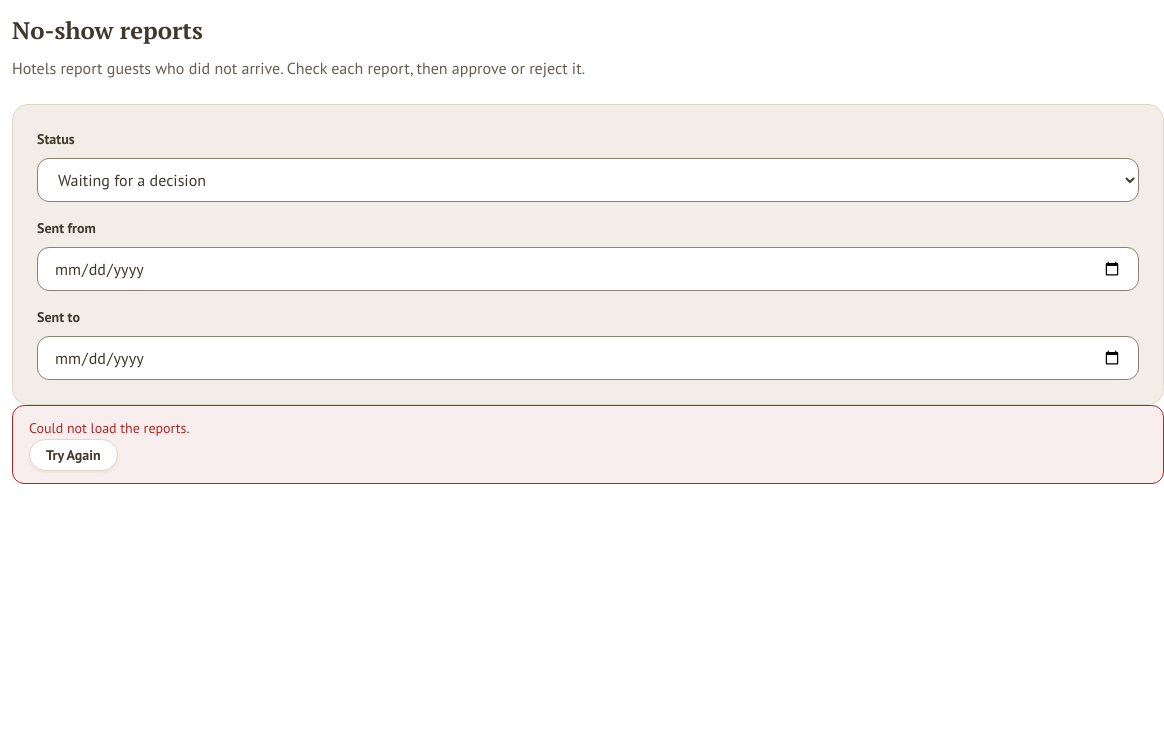
Test: AdminNoShowReports › queue › shows an error with a retry
The width and height of the screenshot is (1164, 732).
Expected: the message shows "Could not load the reports.", x1=29 y1=419 x2=189 y2=437
Click the button "Try Again".
click(73, 455)  # box x1=29 y1=439 x2=118 y2=471
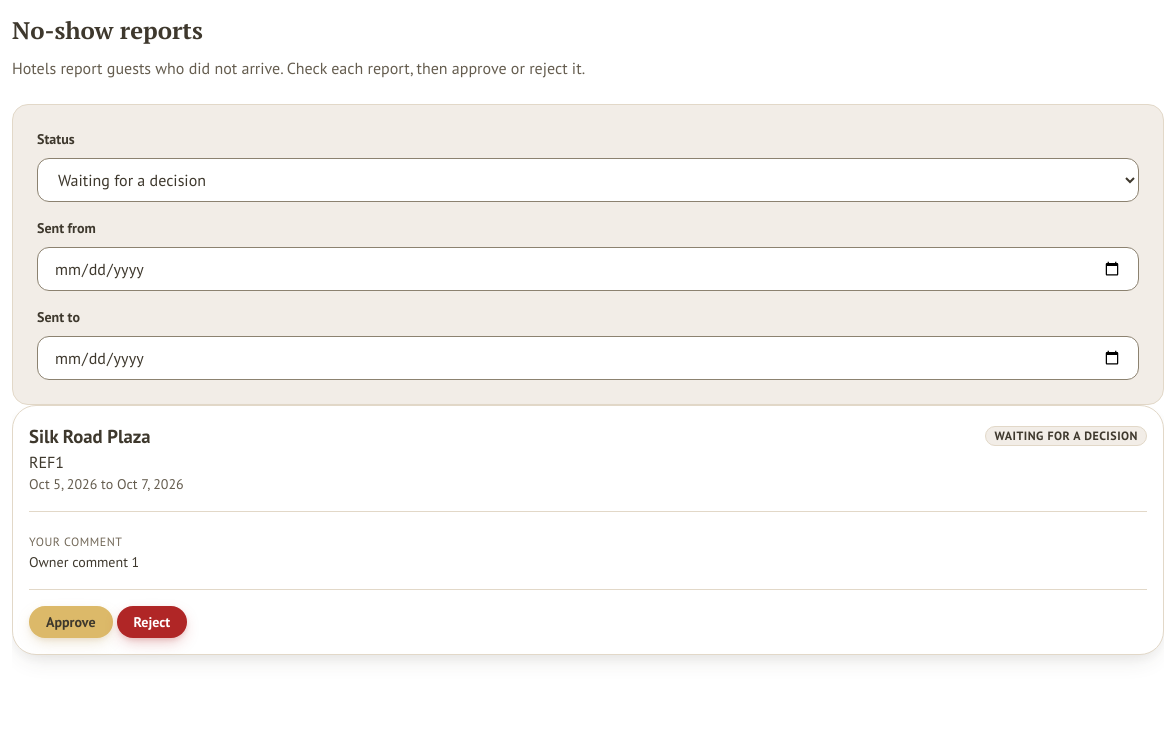
Expected: the text "REF1" is shown, x1=29 y1=452 x2=64 y2=472
